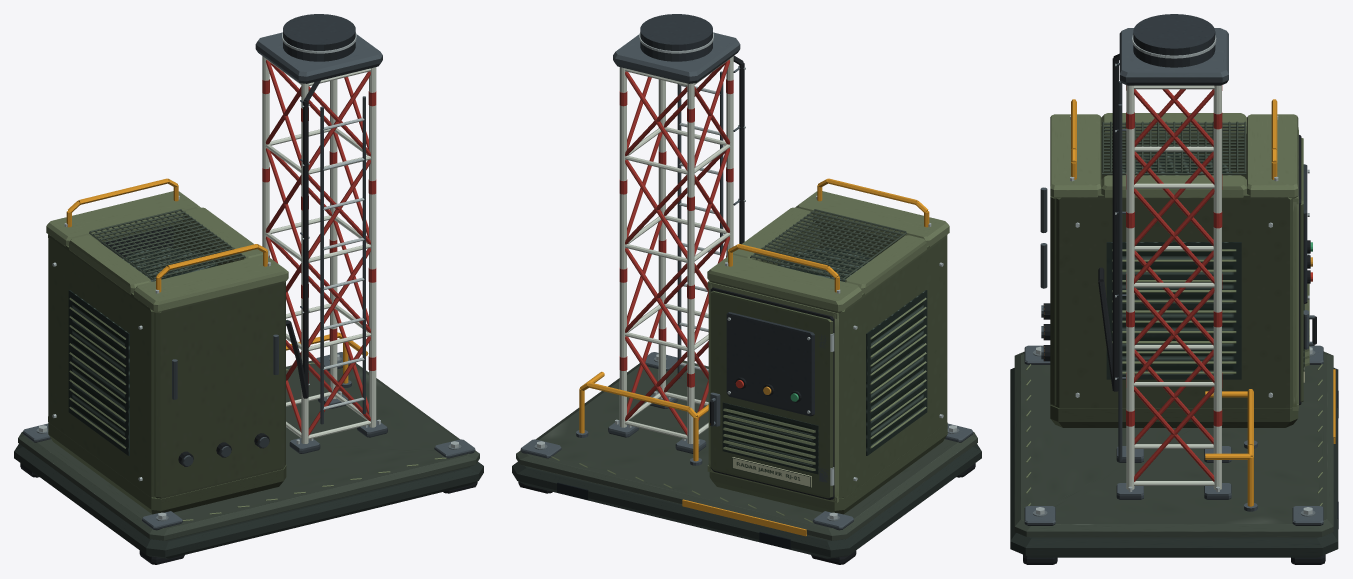
Rendered from radar_jammer_tower.obj.
The picture shows the model from 3 angles, left to right: view 1: azimuth 30°, elevation 25°; view 2: azimuth 150°, elevation 25°; view 3: azimuth 270°, elevation 25°; orthographic projection. The views are drawn at different scales.
Visible parts, largest first — view 1: cabinet_back_wall, upper_mounting_deck, cabinet_side_wall_-10.6, lower_skid_base, side_vent_recess_-1, cabinet_roof_frame_back, cabinet_bottom_chassis, cabinet_roof_frame_front, mast_top_cap, fixed_azimuth_bearing, white_mast_post_(7.4, 2.4), cabinet_roof_frame_left (+8 smaller); view 2: upper_mounting_deck, cabinet_side_wall_-10.6, olive_service_door, lower_skid_base, control_panel_frame, side_vent_recess_-1, cabinet_roof_frame_front, cabinet_bottom_chassis, cabinet_roof_frame_back, door_front_vent_backing, mast_top_cap, fixed_azimuth_bearing (+16 smaller); view 3: upper_mounting_deck, cabinet_side_wall_-1.65, side_vent_recess_1, lower_skid_base, cabinet_roof_frame_front, cabinet_bottom_chassis, cabinet_roof_frame_back, fixed_azimuth_bearing, mast_top_cap, white_mast_post_(7.4, 2.4), white_mast_post_(7.4, -2.4), cabinet_to_mast_power_lead_3 (+28 smaller).
Boxes of the visible parts, x1,y1,x2,y2 form: cabinet_back_wall: (154,281,285,498); upper_mounting_deck: (18,360,479,540); cabinet_side_wall_-10.6: (48,235,155,497); lower_skid_base: (14,444,483,558); side_vent_recess_-1: (68,290,129,455); cabinet_roof_frame_back: (134,255,288,313); cabinet_bottom_chassis: (48,422,286,514); cabinet_roof_frame_front: (46,191,200,246); mast_top_cap: (255,32,382,83); fixed_azimuth_bearing: (283,14,355,61); white_mast_post_(7.4, 2.4): (369,67,376,427); cabinet_roof_frame_left: (69,235,151,294); upper_mounting_deck: (516,360,977,540); cabinet_side_wall_-10.6: (839,235,947,498); olive_service_door: (710,290,833,498); lower_skid_base: (512,444,981,558); control_panel_frame: (726,312,814,416); side_vent_recess_-1: (866,290,927,455); cabinet_roof_frame_front: (707,255,861,313); cabinet_bottom_chassis: (709,422,947,514); cabinet_roof_frame_back: (795,191,949,246); door_front_vent_backing: (722,402,818,474); mast_top_cap: (613,32,740,83); fixed_azimuth_bearing: (640,14,712,61); upper_mounting_deck: (1014,351,1333,537); cabinet_side_wall_-1.65: (1055,194,1292,408); side_vent_recess_1: (1106,242,1241,379); lower_skid_base: (1010,368,1338,557); cabinet_roof_frame_front: (1247,114,1298,198); cabinet_bottom_chassis: (1050,405,1298,427); cabinet_roof_frame_back: (1050,114,1101,198); fixed_azimuth_bearing: (1133,14,1215,67); mast_top_cap: (1119,28,1228,85); white_mast_post_(7.4, 2.4): (1126,85,1134,489); white_mast_post_(7.4, -2.4): (1213,85,1221,489); cabinet_to_mast_power_lead_3: (1112,58,1118,391).
Size of the model in its own units: 1.5 by 1.83 by 1.13.
